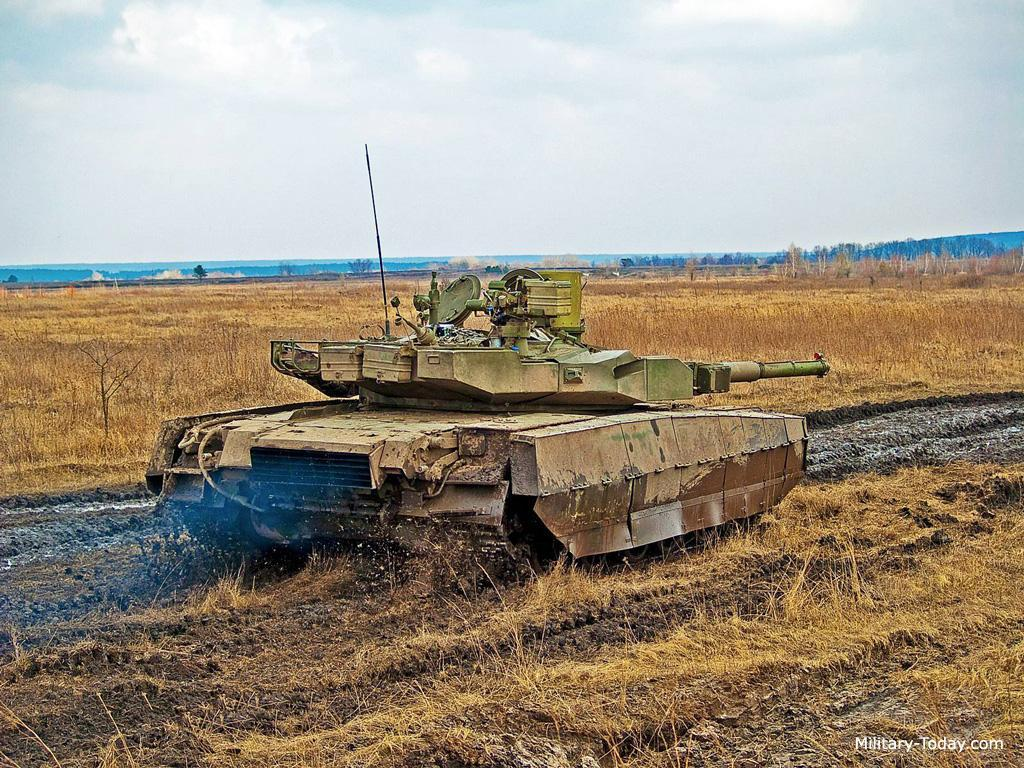tank: (146, 267, 834, 588)
